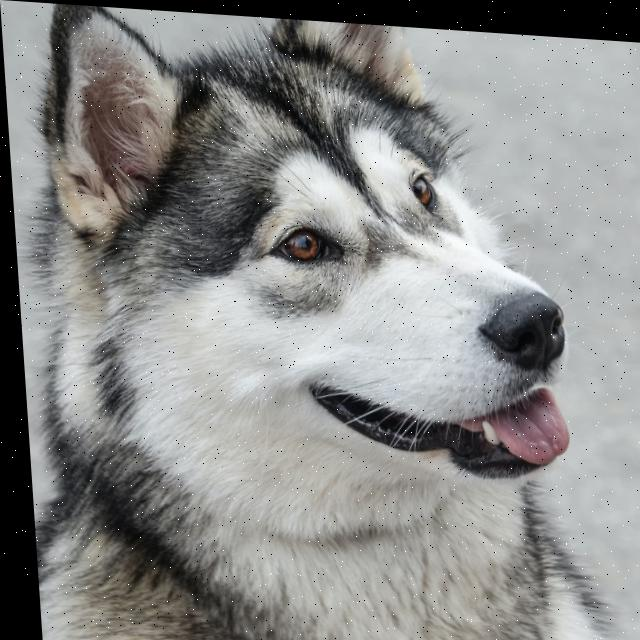ALASKAN_MALAMUTE: (0, 0, 631, 640)
